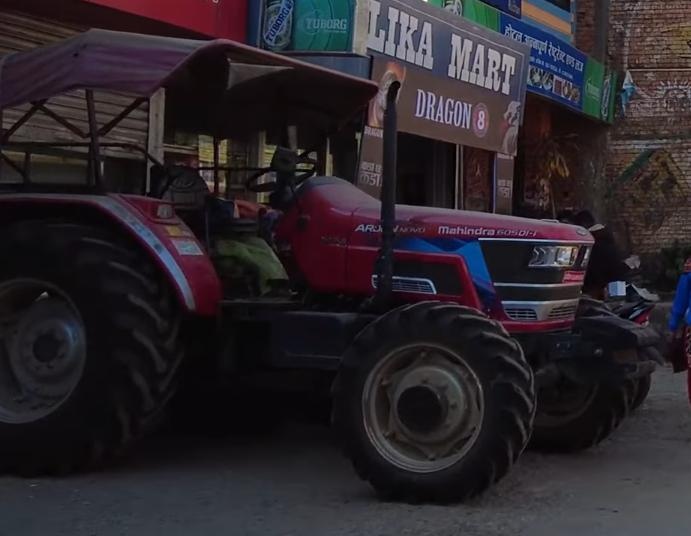tractor: (0, 18, 661, 517)
